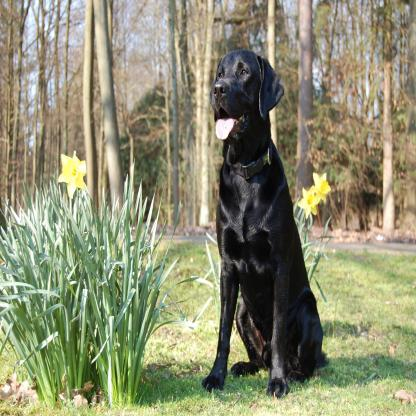Labarador Retriever: (204, 53, 328, 394)
